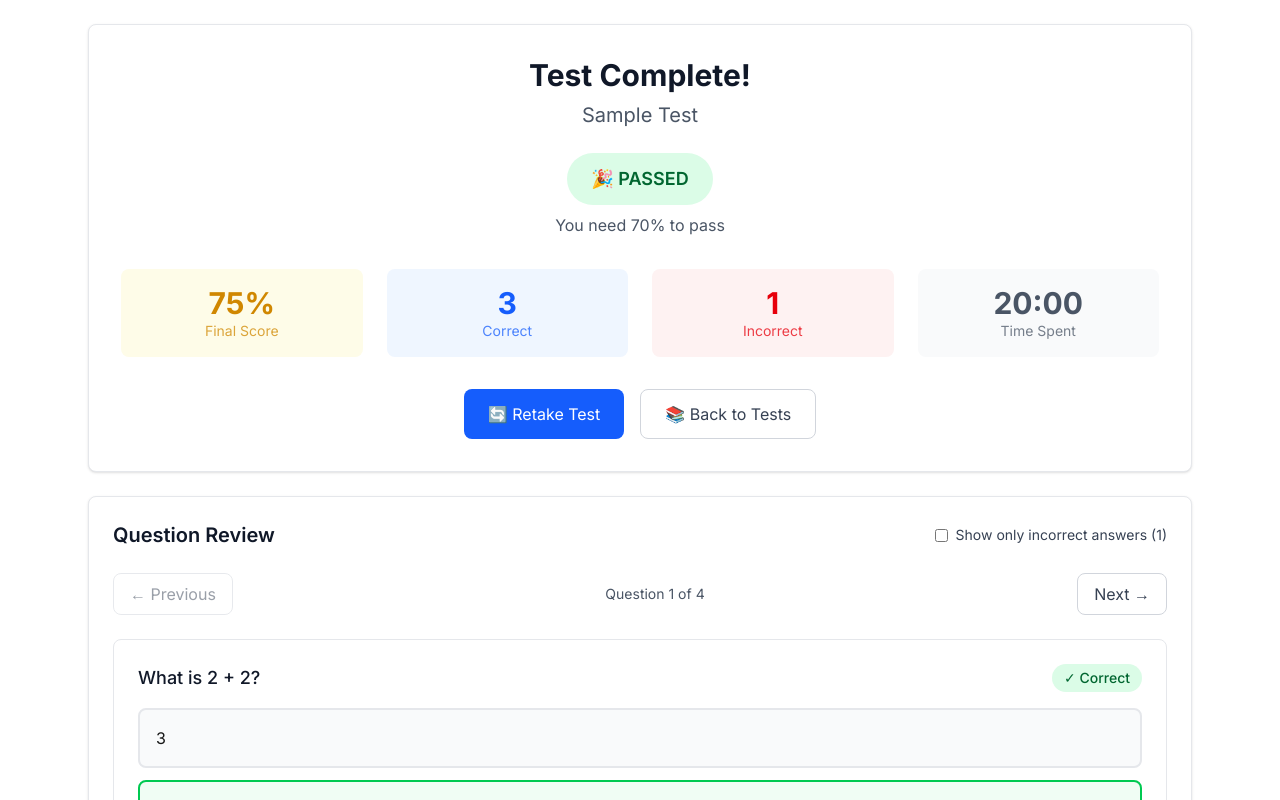
TestReviewComponent › navigates to previous question
Go to second question
Click the button "Next →": (1122, 594) [1077,573,1167,615]
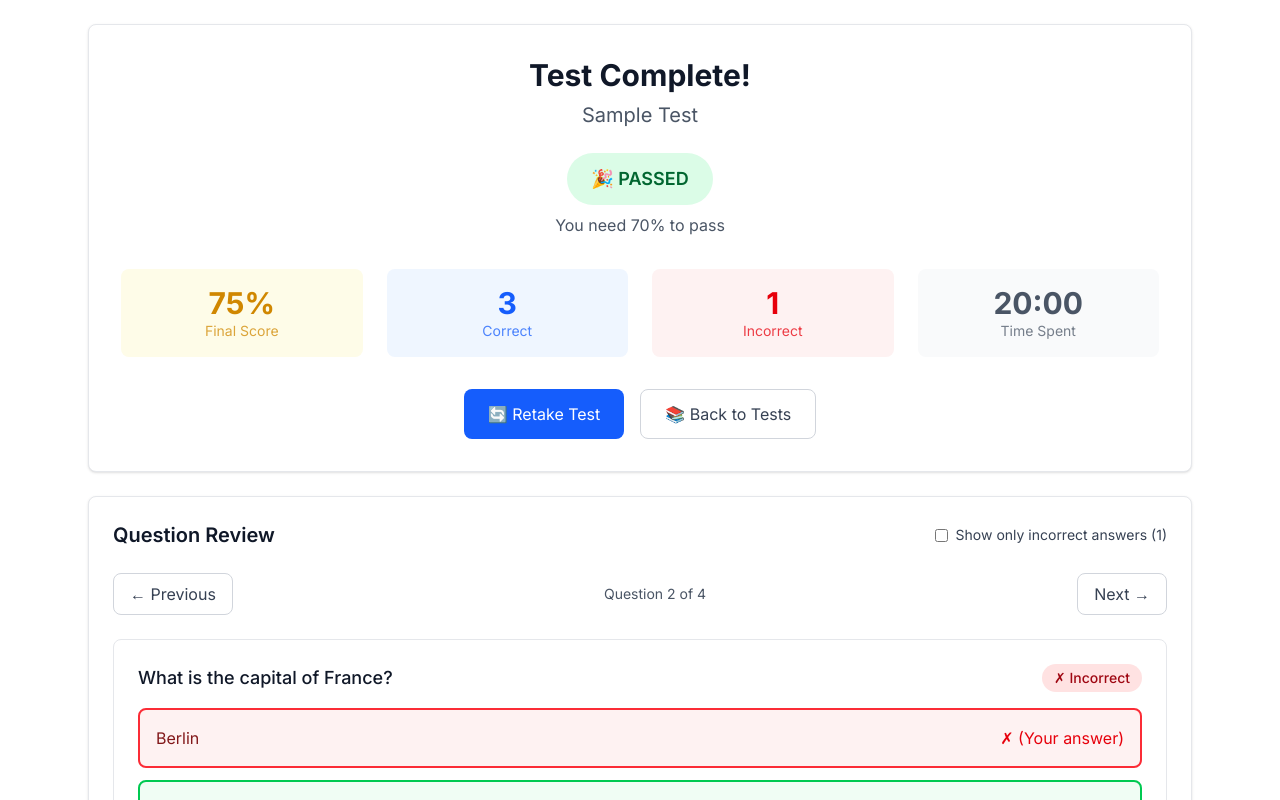
Go back to first question
Click the button "← Previous": (173, 594) [113,573,233,615]
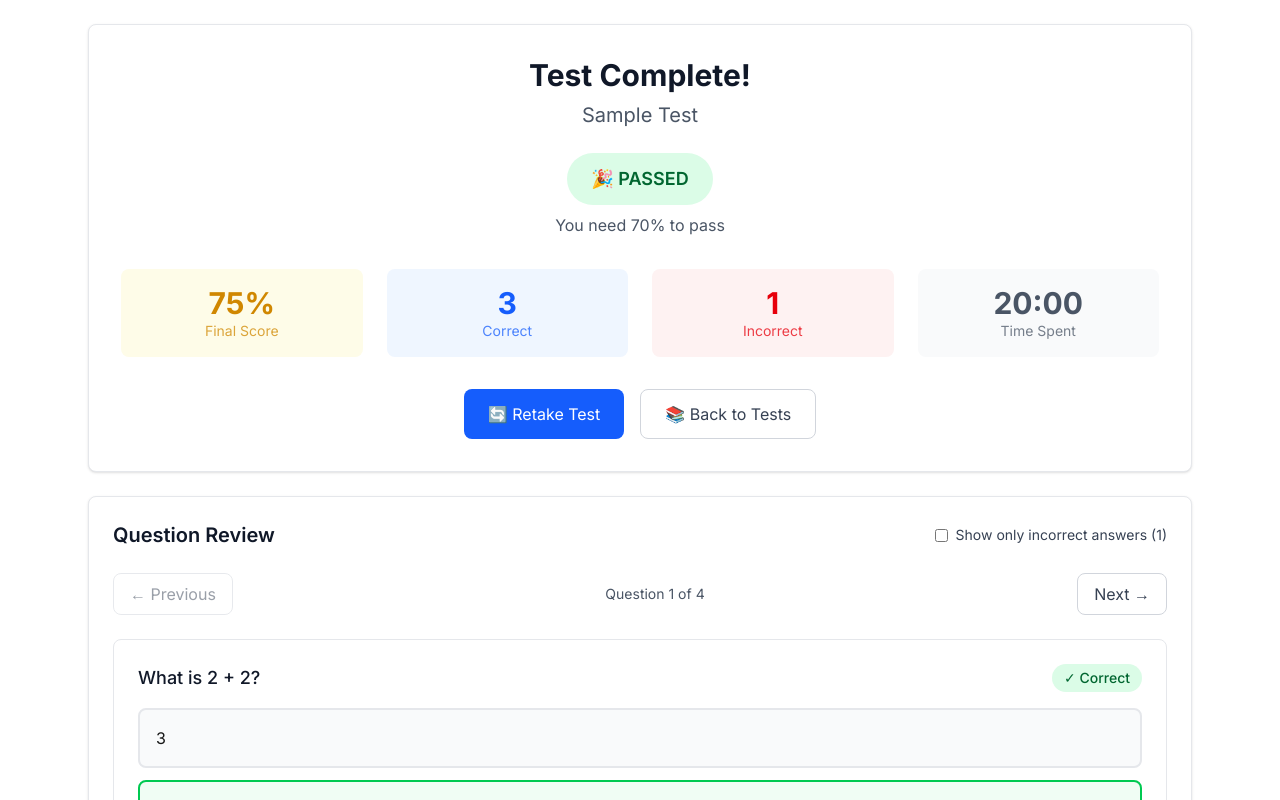
Expected: the heading "What is 2 + 2?" is shown, [138,667,260,688]
